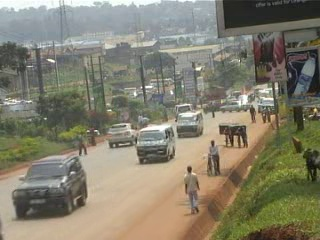Car: (11, 153, 89, 220), (105, 120, 140, 149), (218, 98, 251, 113), (233, 94, 252, 104)
